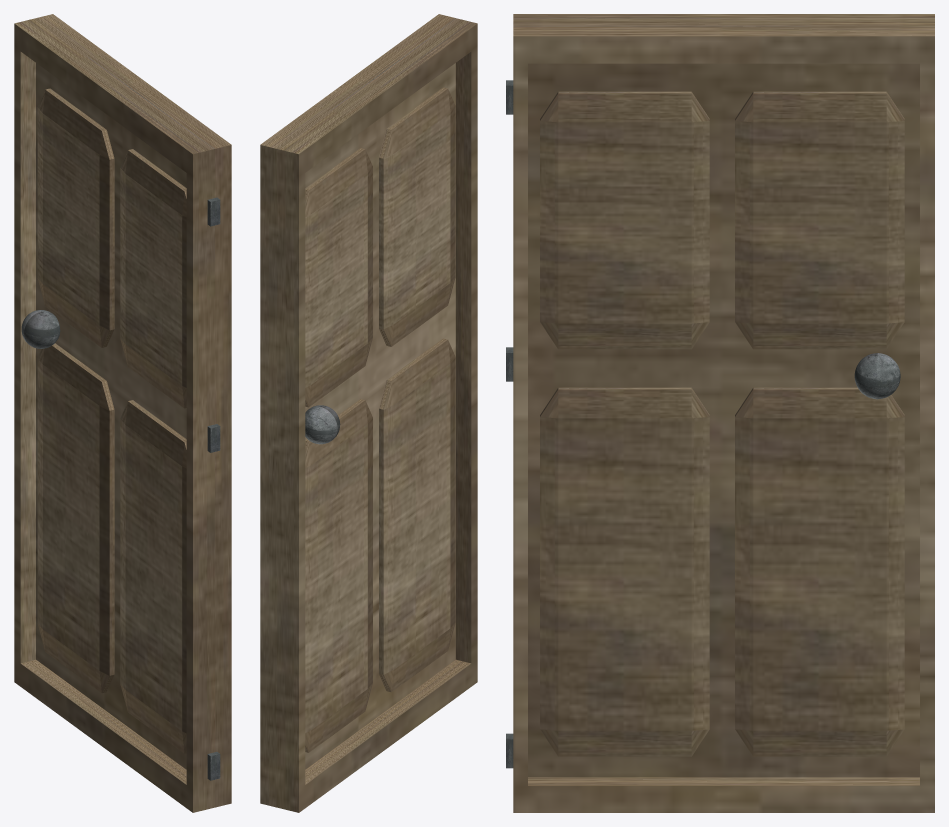
Rendered from BEIGE WOODEN DOOR.glb.
3 views of the same model, side by side, from view 1: azimuth 30°, elevation 25°; view 2: azimuth 150°, elevation 25°; view 3: azimuth 270°, elevation 25° (orthographic). The views are drawn at different scales.
Parts seen in each view (by area): view 1: DOOR, SHEET METAL, VISAGRA.001; view 2: DOOR, SHEET METAL; view 3: DOOR, SHEET METAL, VISAGRA.001.
Part boxes in pixels (x1,y1,x2,y2): DOOR: (14,14,231,812); SHEET METAL: (21,310,60,348); VISAGRA.001: (207,197,220,780); DOOR: (260,14,477,812); SHEET METAL: (305,405,340,444); DOOR: (513,14,934,812); SHEET METAL: (854,353,900,399); VISAGRA.001: (506,80,513,768).
Size of the model in its own units: 0.1749 by 1.6 by 0.8.
4 materials, 4 textured.
